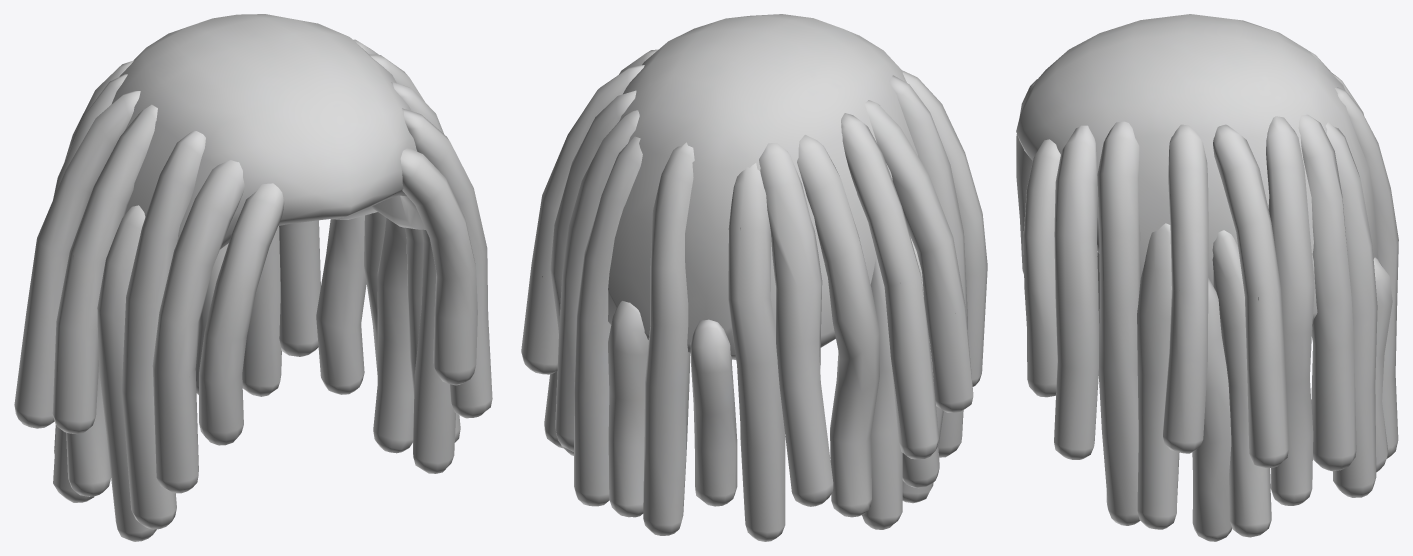
File: hair_dreads.glb
3 views of the same model, side by side, from view 1: azimuth 30°, elevation 25°; view 2: azimuth 150°, elevation 25°; view 3: azimuth 270°, elevation 25° (orthographic). The views are drawn at different scales.
Visible parts, largest first — view 1: geometry_0; view 2: geometry_0; view 3: geometry_0.
Part boxes in pixels (<box>): geometry_0: <box>14,14,492,541</box>; geometry_0: <box>521,14,987,541</box>; geometry_0: <box>1016,14,1398,541</box>.
Size of the model in its own units: 0.918 by 0.9521 by 0.7559.
1 material, 1 textured.
